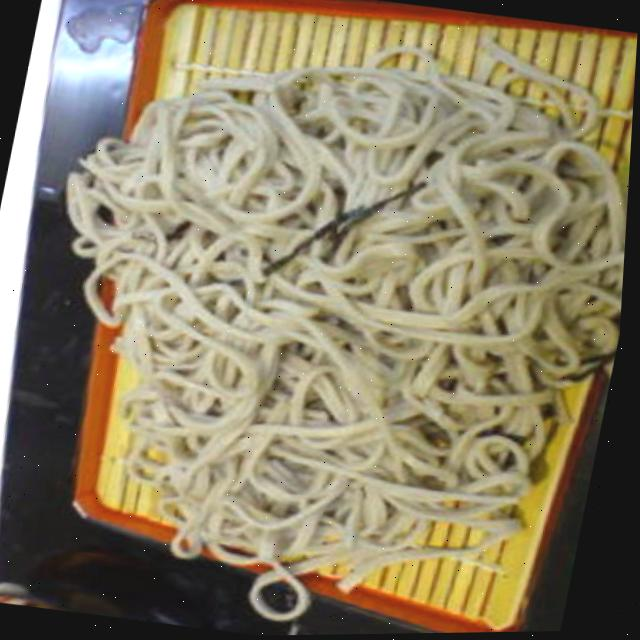面条主食: (0, 158, 632, 640)
